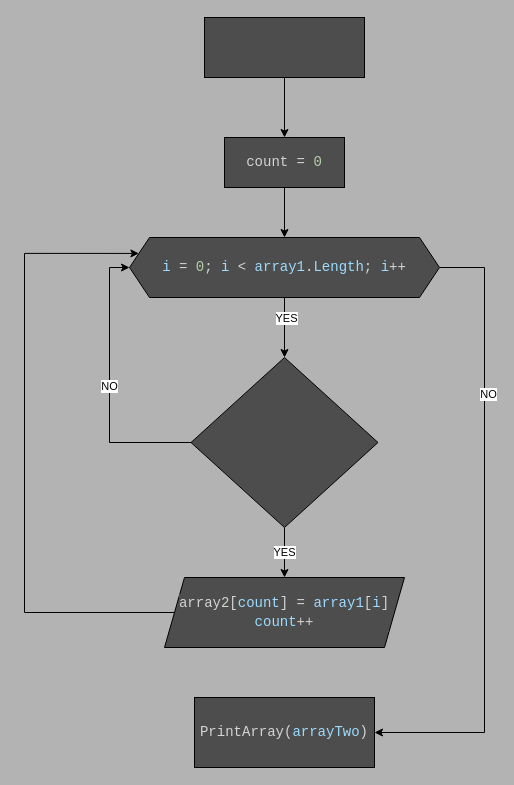
Some shapes in this 514 by 785 pixel diagram are drawn without their labels. Here are the shapes that lost their labels. From the top down, the box of each, then its label:
(204, 16, 364, 78): string[] arrayOne string [] arrayTwo
(190, 356, 378, 528): array1[ i ]. Length <= 3
